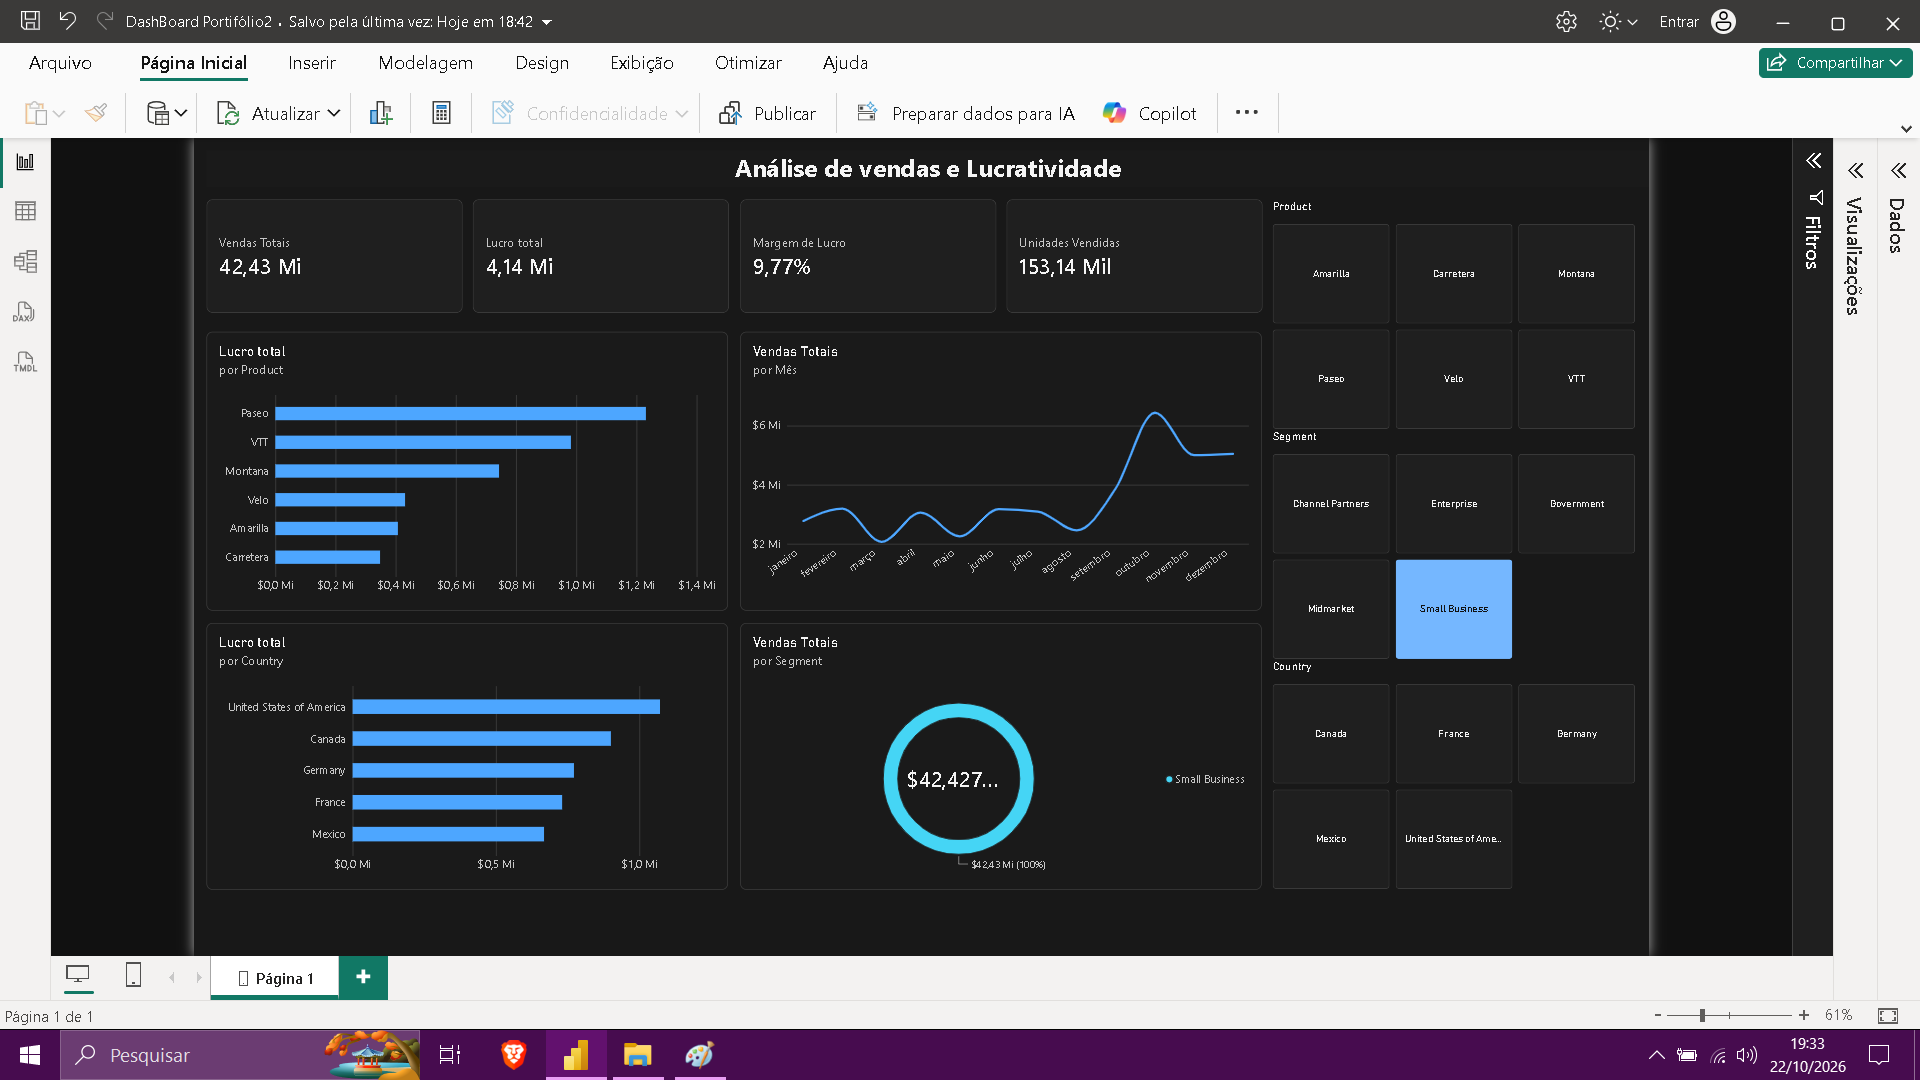

Layout of this report page (visuals, bound fields, positions):
{"tool":"powerbi","page":{"name":"Página 1","canvas":[1920,1080],"ordinal":0},"visuals":[{"type":"textbox","box":[16,16,1904,48],"z":0},{"type":"cardVisual","fields":{"Data":["financials.Vendas Totais"]},"box":[16,80,338.5,150.3],"z":1000},{"type":"cardVisual","fields":{"Data":["financials.Lucro total"]},"box":[368,80,338.5,150.3],"z":2000},{"type":"cardVisual","fields":{"Data":["financials.Margem de Lucro"]},"box":[720,80,338.5,150.3],"z":3000},{"type":"cardVisual","fields":{"Data":["financials.Unidades Vendidas"]},"box":[1072,80,338.5,150.3],"z":4000},{"type":"lineChart","fields":{"Category":["financials.Date.Variação.Hierarquia de datas.Ano","financials.Date.Variação.Hierarquia de datas.Trimestre","financials.Date.Variação.Hierarquia de datas.Mês","financials.Date.Variação.Hierarquia de datas.Dia"],"Y":["financials.Vendas Totais"]},"box":[720,256,688,368],"z":5000},{"type":"clusteredBarChart","fields":{"Category":["financials.Product"],"Y":["financials.Lucro total"]},"box":[16,256,688,368],"z":6000},{"type":"donutChart","fields":{"Category":["financials.Segment"],"Y":["financials.Vendas Totais"]},"box":[720,640,688,352],"z":7000},{"type":"clusteredBarChart","fields":{"Category":["financials.Country"],"Y":["financials.Lucro total"]},"box":[16,640,688,352],"z":8000},{"type":"advancedSlicerVisual","fields":{"Values":["financials.Country"]},"box":[1424,688,480,304],"z":9000},{"type":"advancedSlicerVisual","fields":{"Values":["financials.Segment"]},"box":[1424,384,480,304],"z":10000},{"type":"advancedSlicerVisual","fields":{"Values":["financials.Product"]},"box":[1424,80,480,304],"z":11000}]}

Visuals, with their boxes on the page's 1920x1080 design canvas (x1, y1, x2, y2). These are canvas units, not pixel positions in the 1920x1080 screenshot, which may show the page scaled, cropped or inside an application window:
textbox: crop(16, 16, 1920, 64)
cardVisual - financials.Vendas Totais: crop(16, 80, 354, 230)
cardVisual - financials.Lucro total: crop(368, 80, 706, 230)
cardVisual - financials.Margem de Lucro: crop(720, 80, 1058, 230)
cardVisual - financials.Unidades Vendidas: crop(1072, 80, 1410, 230)
lineChart - financials.Date.Variação.Hierarquia de datas.Ano x financials.Date.Variação.Hierarquia de datas.Trimestre: crop(720, 256, 1408, 624)
clusteredBarChart - financials.Product x financials.Lucro total: crop(16, 256, 704, 624)
donutChart - financials.Segment x financials.Vendas Totais: crop(720, 640, 1408, 992)
clusteredBarChart - financials.Country x financials.Lucro total: crop(16, 640, 704, 992)
advancedSlicerVisual - financials.Country: crop(1424, 688, 1904, 992)
advancedSlicerVisual - financials.Segment: crop(1424, 384, 1904, 688)
advancedSlicerVisual - financials.Product: crop(1424, 80, 1904, 384)
